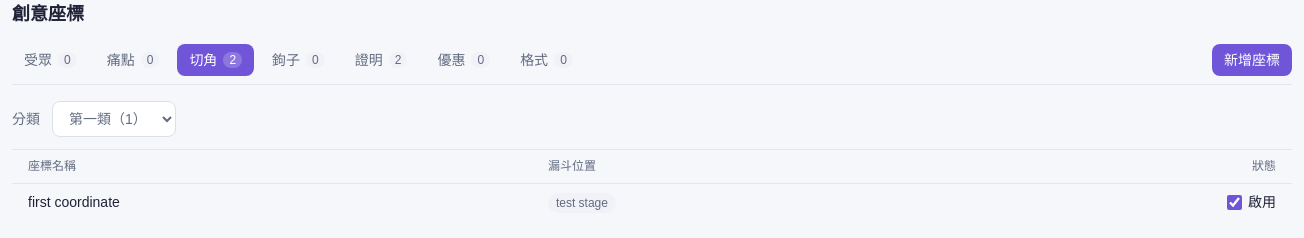
it: coordinate context survives saves (F52-I15) › does not let the initial category normalization overwrite an immediate user selection
Select "第二類（1）" in the dropdown labelled "分類" at point(114, 119), box [52,101,176,137]
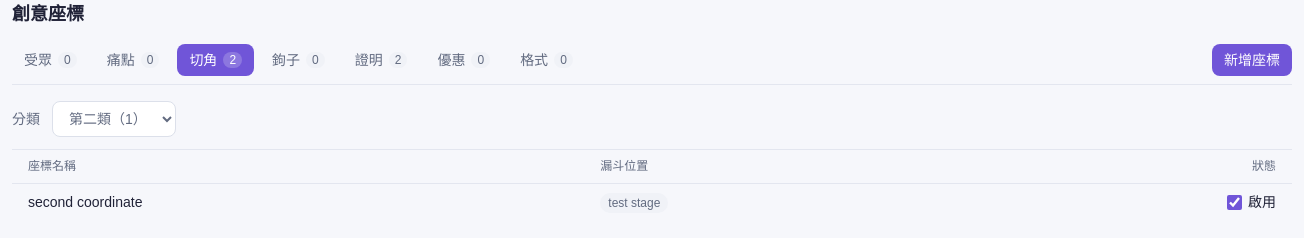
Result: the text "second coordinate" is shown at [12,184,584,221]
